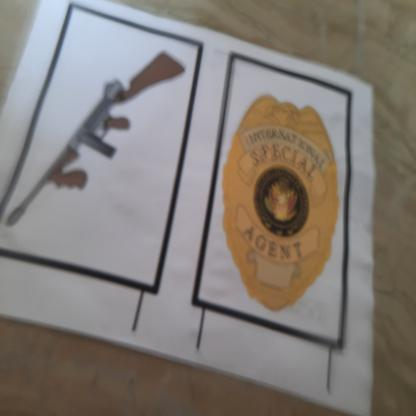Bootlegger: (2, 47, 195, 240)
G-man: (217, 88, 341, 323)
